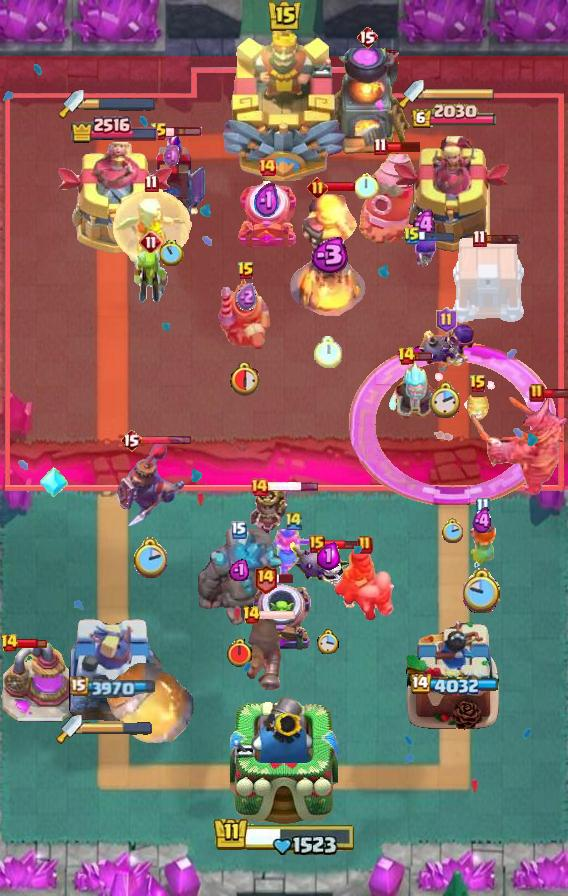bar: (391, 132, 515, 256), (55, 142, 173, 256), (66, 611, 162, 731)
bomb: (449, 238, 527, 324)
bomb-tower: (246, 616, 284, 692)
bomber-evolution: (248, 483, 299, 537)
cannoneer-tower: (194, 527, 284, 629)
clock: (212, 813, 356, 855)
dirt: (107, 661, 197, 749)
electro-dragon: (288, 191, 368, 319)
electro-spirit: (306, 237, 350, 273), (254, 182, 280, 221), (410, 209, 440, 241), (317, 542, 340, 570), (472, 507, 493, 535), (236, 282, 257, 309), (162, 144, 182, 168), (229, 559, 249, 582)
elite-barbarian: (333, 544, 397, 624)
elixir: (463, 567, 502, 612), (133, 538, 168, 579), (430, 381, 462, 420), (230, 360, 263, 396), (314, 336, 342, 368), (226, 638, 253, 668), (355, 172, 379, 199), (160, 240, 184, 266), (441, 518, 463, 543), (317, 630, 339, 655)
elixir-golem-big: (112, 441, 186, 529)
emote: (268, 481, 321, 492), (140, 434, 192, 445), (386, 139, 423, 152), (322, 538, 358, 551), (166, 126, 203, 138), (484, 233, 521, 245), (260, 609, 297, 621), (325, 181, 361, 193), (12, 637, 48, 649), (419, 231, 455, 242), (544, 388, 568, 399), (414, 350, 434, 361), (275, 572, 295, 583)
goblin: (414, 232, 438, 268)
goblin-ball: (286, 540, 370, 610), (416, 321, 476, 377)
goblin-cage: (235, 181, 299, 251), (250, 583, 314, 653)
golemite: (468, 391, 568, 499)
hog-rider: (270, 527, 318, 581), (463, 519, 501, 571)
hunter: (323, 48, 411, 158)
ice-spirit-evolution: (467, 391, 489, 421)
ice-spirit-evolution-symbol: (138, 131, 206, 217)
king-tower: (220, 21, 348, 181), (230, 692, 338, 826)
king-tower-bar: (424, 87, 496, 101), (84, 97, 156, 111), (82, 722, 152, 736)
knight-evolution: (349, 342, 556, 505)
magic-archer: (355, 149, 421, 247)
mortar: (386, 360, 448, 424)
pad_2: (40, 465, 68, 499)
pekka: (0, 642, 78, 724)
poison: (110, 188, 195, 280)
queen-tower: (404, 617, 502, 731)
ram-rider: (217, 277, 275, 353)
selected: (69, 114, 159, 144), (411, 102, 498, 129), (408, 674, 498, 698), (70, 676, 158, 698)
text: (254, 562, 279, 593), (139, 230, 163, 254), (435, 307, 456, 333), (356, 25, 378, 49), (120, 428, 142, 452), (307, 177, 328, 198), (284, 509, 304, 531), (257, 157, 277, 177), (249, 477, 269, 497), (242, 605, 262, 625), (397, 346, 416, 366), (1, 633, 20, 653), (150, 122, 168, 142), (403, 226, 421, 246), (237, 261, 255, 281), (469, 374, 487, 394), (529, 383, 545, 403), (357, 535, 373, 555), (231, 521, 247, 539), (309, 535, 325, 553), (145, 175, 160, 193), (472, 229, 487, 247), (475, 497, 490, 515), (373, 136, 387, 155)
zap: (132, 248, 170, 306)
